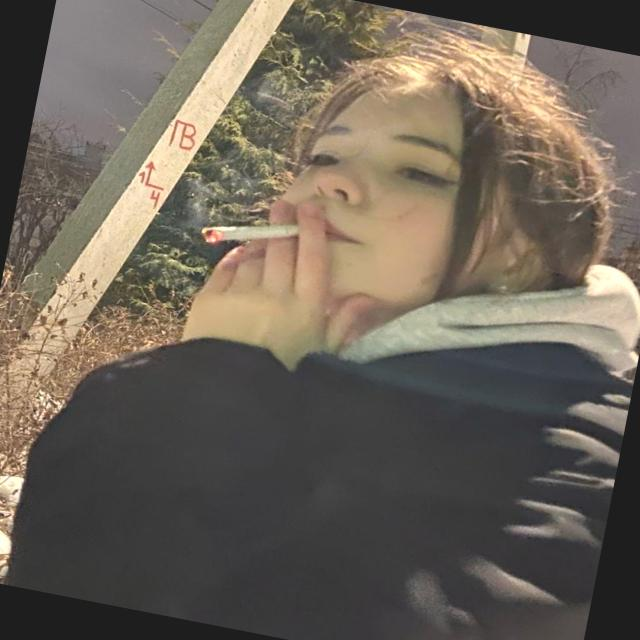cigarette: (166, 178, 340, 294)
